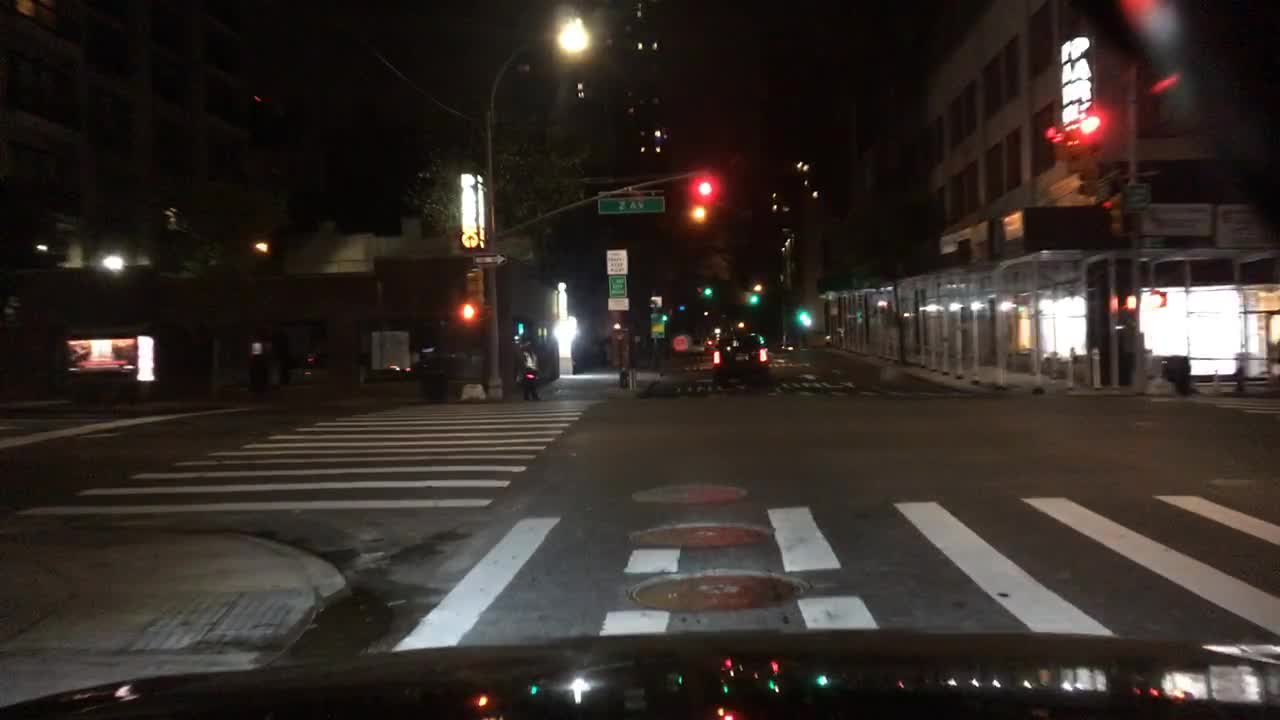car: (707, 329, 773, 388), (703, 327, 725, 351)
person: (516, 334, 543, 401)
traffic light: (1100, 187, 1124, 239), (1076, 158, 1102, 201), (1083, 111, 1103, 164), (462, 266, 484, 304), (695, 175, 715, 214), (1043, 118, 1063, 153), (459, 300, 479, 326), (1146, 288, 1167, 312), (1119, 292, 1140, 312), (800, 297, 810, 324), (747, 284, 756, 307), (703, 280, 711, 299)
traffic sign: (597, 194, 666, 216), (1125, 180, 1151, 211), (1134, 231, 1164, 253), (604, 250, 627, 273), (649, 310, 665, 341), (476, 250, 508, 265), (607, 273, 624, 295), (606, 297, 627, 310)
truck: (369, 328, 411, 372)
